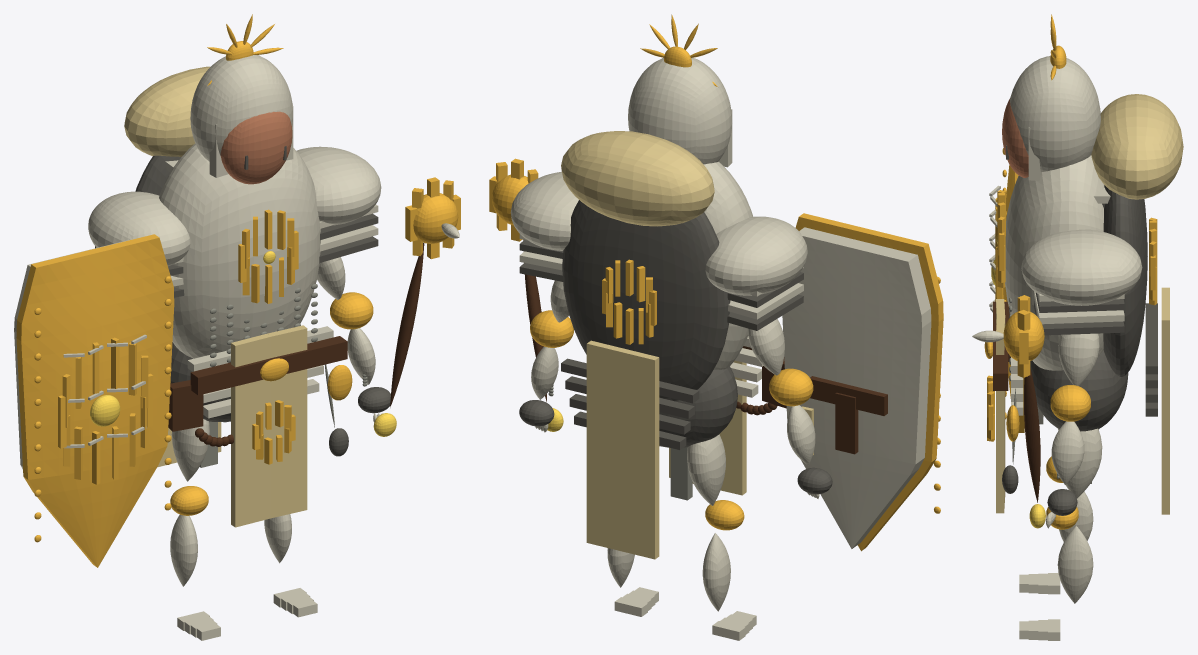
The model's file is paladin_class_highpoly_quadmesh_v0.15.90.obj.
3 renders of one model, left to right at view 1: azimuth 30°, elevation 25°; view 2: azimuth 150°, elevation 25°; view 3: azimuth 270°, elevation 25°, orthographic. The views are drawn at different scales.
Parts seen in each view (by area): view 1: large_kite_shield_gold_rim, torso_breastplate_central_ridge, open_faced_armet_shell, front_split_tabard_heavy_wool_left, front_split_tabard_heavy_wool_right, thrown_back_deep_hood, right_massive_layered_pauldron_outer, left_massive_layered_pauldron_outer, visible_resolute_face, tooled_heavy_leather_belt, mace_sunray_flanged_head_core, blessed_mace_leather_wrapped_haft (+18 smaller); view 2: large_kite_shield_body, backplate_divine_seal_base, back_tabard_panel_with_divine_seal, thrown_back_deep_hood, open_faced_armet_shell, left_massive_layered_pauldron_outer, large_kite_shield_gold_rim, right_massive_layered_pauldron_outer, torso_breastplate_central_ridge, pelvis_faulds_core, front_split_tabard_heavy_wool_left, left_cuissse_shaped_thigh_plate (+21 smaller); view 3: torso_breastplate_central_ridge, open_faced_armet_shell, thrown_back_deep_hood, right_massive_layered_pauldron_outer, backplate_divine_seal_base, pelvis_faulds_core, back_tabard_panel_with_divine_seal, right_ridged_greave, right_rerebrace_enclosed_plate, right_vambrace_hinged_plate, blessed_mace_leather_wrapped_haft, front_split_tabard_heavy_wool_right (+18 smaller).
Part boxes in pixels (<box>): large_kite_shield_gold_rim: <box>16,234,174,567</box>; torso_breastplate_central_ridge: <box>159,143,320,358</box>; open_faced_armet_shell: <box>190,55,292,161</box>; front_split_tabard_heavy_wool_left: <box>231,334,270,527</box>; front_split_tabard_heavy_wool_right: <box>267,325,307,518</box>; thrown_back_deep_hood: <box>124,66,210,156</box>; right_massive_layered_pauldron_outer: <box>296,146,381,225</box>; left_massive_layered_pauldron_outer: <box>88,191,190,266</box>; visible_resolute_face: <box>220,111,292,184</box>; tooled_heavy_leather_belt: <box>190,336,347,395</box>; mace_sunray_flanged_head_core: <box>413,193,458,243</box>; blessed_mace_leather_wrapped_haft: <box>390,242,424,407</box>; large_kite_shield_body: <box>782,227,931,548</box>; backplate_divine_seal_base: <box>562,200,730,401</box>; back_tabard_panel_with_divine_seal: <box>586,340,659,559</box>; thrown_back_deep_hood: <box>561,131,714,226</box>; open_faced_armet_shell: <box>628,57,732,164</box>; left_massive_layered_pauldron_outer: <box>705,216,807,295</box>; large_kite_shield_gold_rim: <box>795,213,943,551</box>; right_massive_layered_pauldron_outer: <box>510,171,578,250</box>; torso_breastplate_central_ridge: <box>703,161,753,369</box>; pelvis_faulds_core: <box>659,366,737,447</box>; front_split_tabard_heavy_wool_left: <box>719,360,746,495</box>; left_cuissse_shaped_thigh_plate: <box>687,434,725,505</box>; torso_breastplate_central_ridge: <box>1005,155,1104,370</box>; open_faced_armet_shell: <box>1010,56,1100,171</box>; thrown_back_deep_hood: <box>1091,94,1183,199</box>; right_massive_layered_pauldron_outer: <box>1021,229,1142,305</box>; backplate_divine_seal_base: <box>1103,185,1147,376</box>; pelvis_faulds_core: <box>1030,351,1128,431</box>; back_tabard_panel_with_divine_seal: <box>1161,287,1169,514</box>; right_ridged_greave: <box>1057,525,1093,603</box>; right_rerebrace_enclosed_plate: <box>1058,333,1099,385</box>; right_vambrace_hinged_plate: <box>1051,421,1084,484</box>; blessed_mace_leather_wrapped_haft: <box>1024,368,1040,502</box>; front_split_tabard_heavy_wool_right: <box>996,316,1005,513</box>.
Bounding box in the file's own units: 1.83 × 2.37 × 0.7675.
